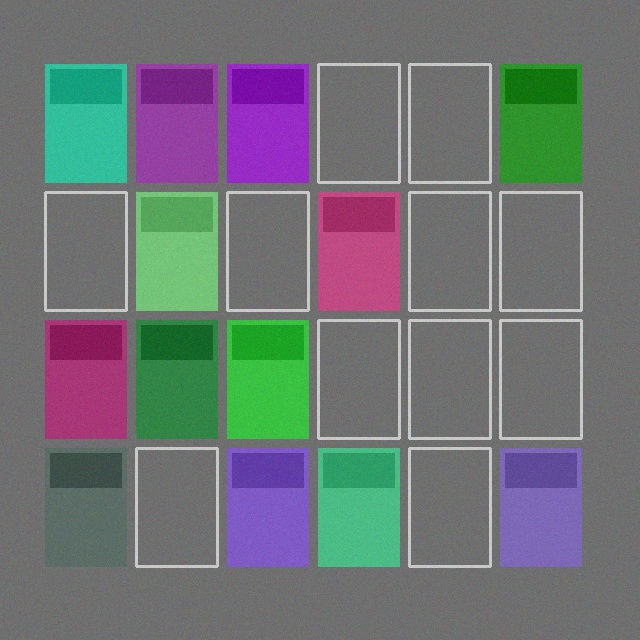space-empty: (318, 64, 399, 182), (409, 64, 490, 182), (45, 192, 126, 310), (227, 192, 308, 310), (409, 192, 490, 310), (500, 192, 581, 310), (318, 320, 399, 438), (409, 320, 490, 438), (500, 320, 581, 438), (136, 448, 217, 566), (409, 448, 490, 566)
space-occupied: (45, 64, 126, 182), (136, 64, 217, 182), (227, 64, 308, 182), (500, 64, 581, 182), (136, 192, 217, 310), (318, 192, 399, 310), (45, 320, 126, 438), (136, 320, 217, 438), (227, 320, 308, 438), (45, 448, 126, 566), (227, 448, 308, 566), (318, 448, 399, 566), (500, 448, 581, 566)
